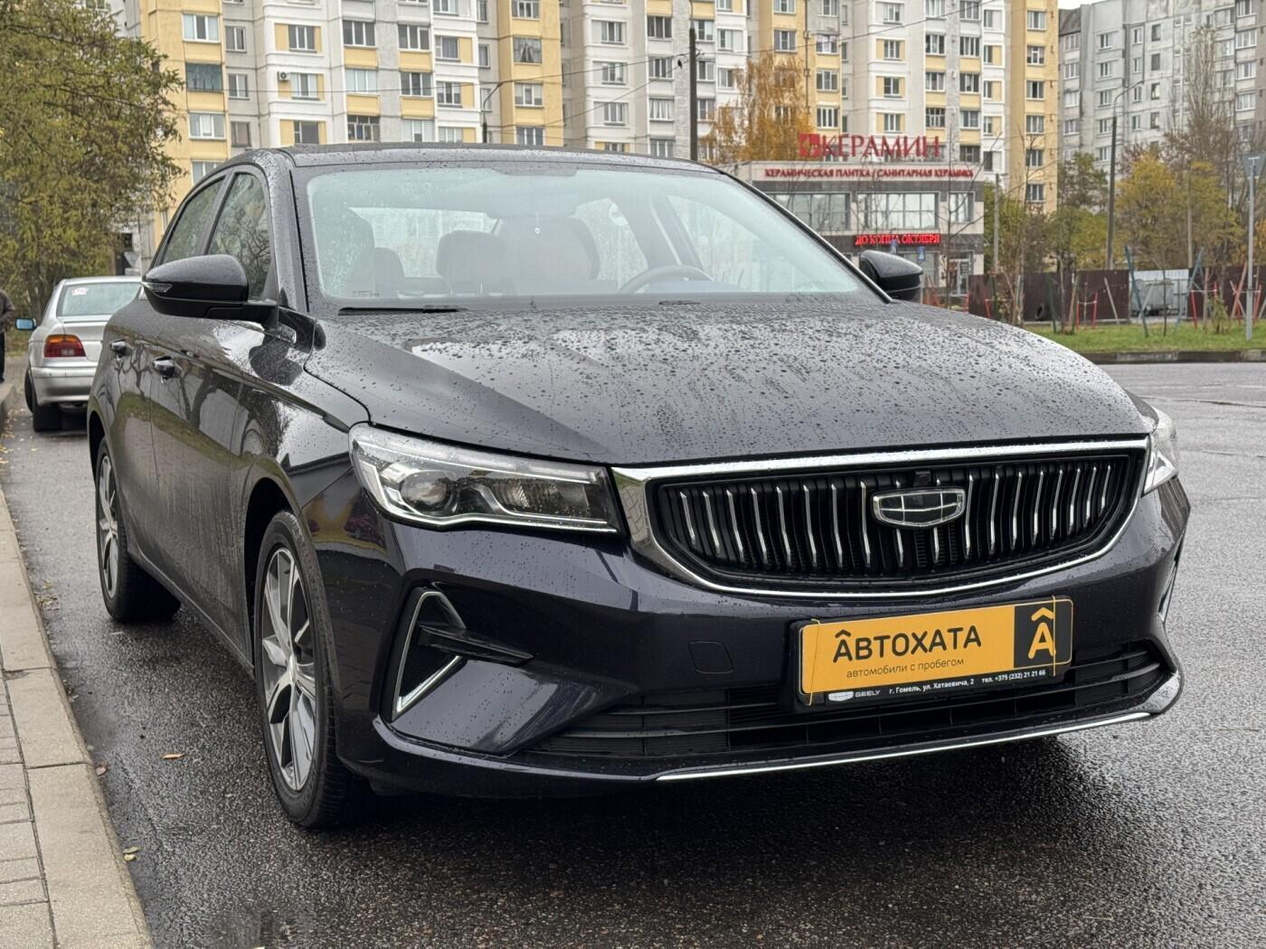Emgrand_2021: (108, 145, 1159, 822)
